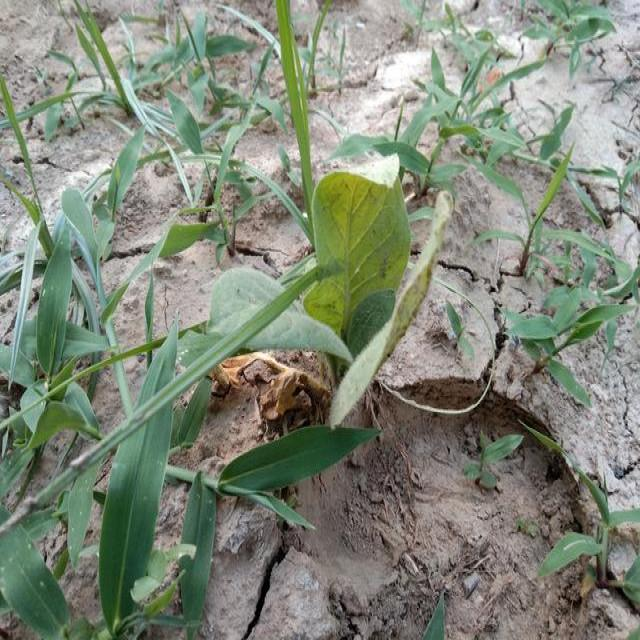crop: (221, 165, 448, 418)
